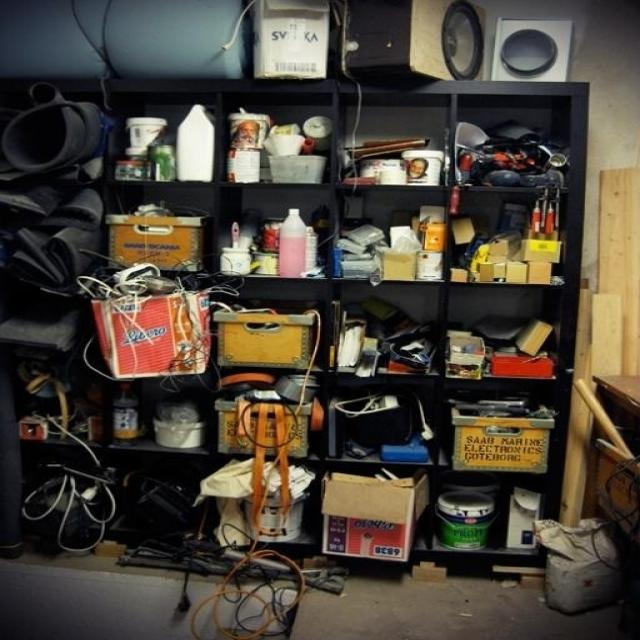Cable: (22, 264, 346, 640)
Plastics: (202, 206, 322, 275)
